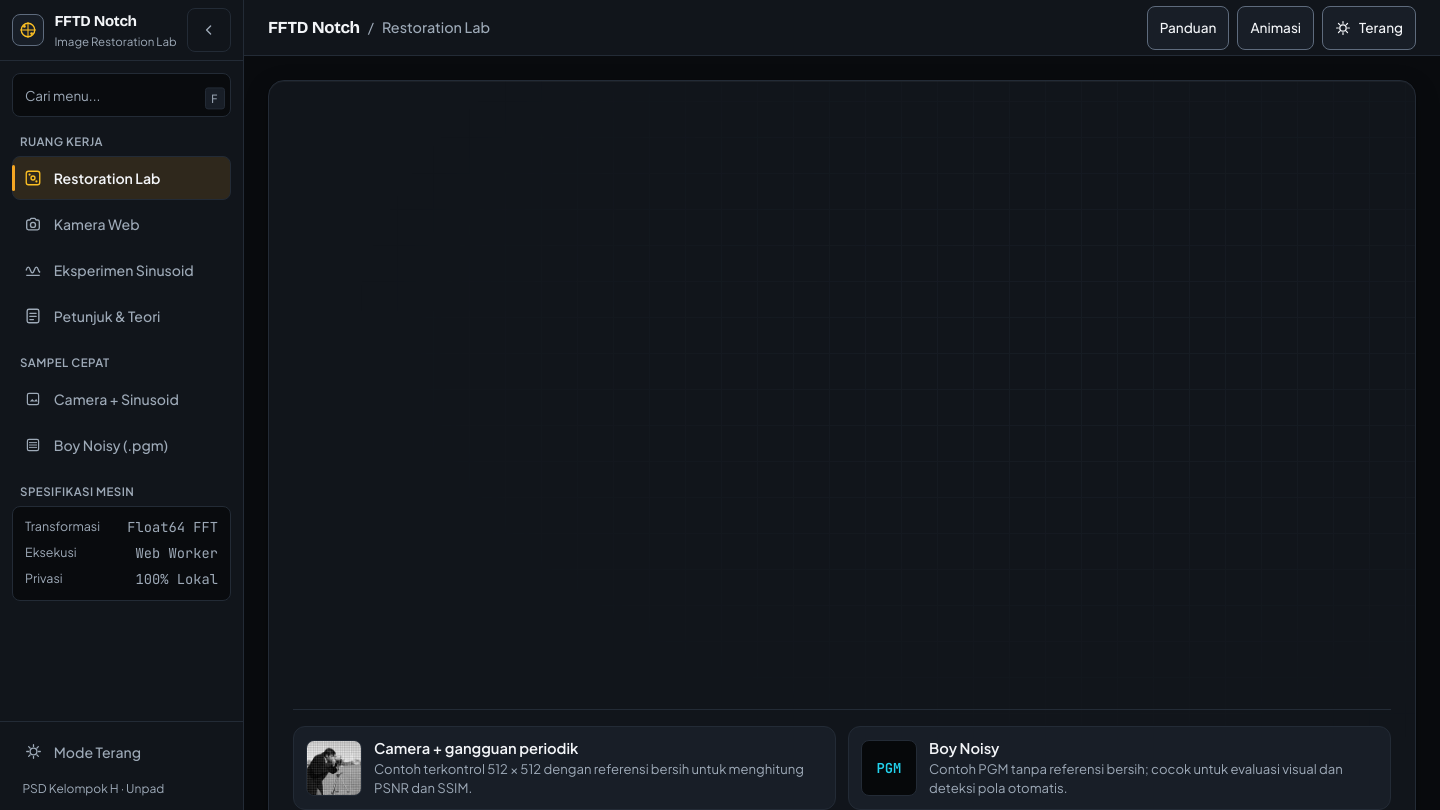
App navigation and theme controls › toggles theme between dark and light, updating documentElement.dataset.theme and aria-pressed
The width and height of the screenshot is (1440, 810).
Click the button with aria-label "Aktifkan mode terang" at (122, 752), box [12,730,231,774]
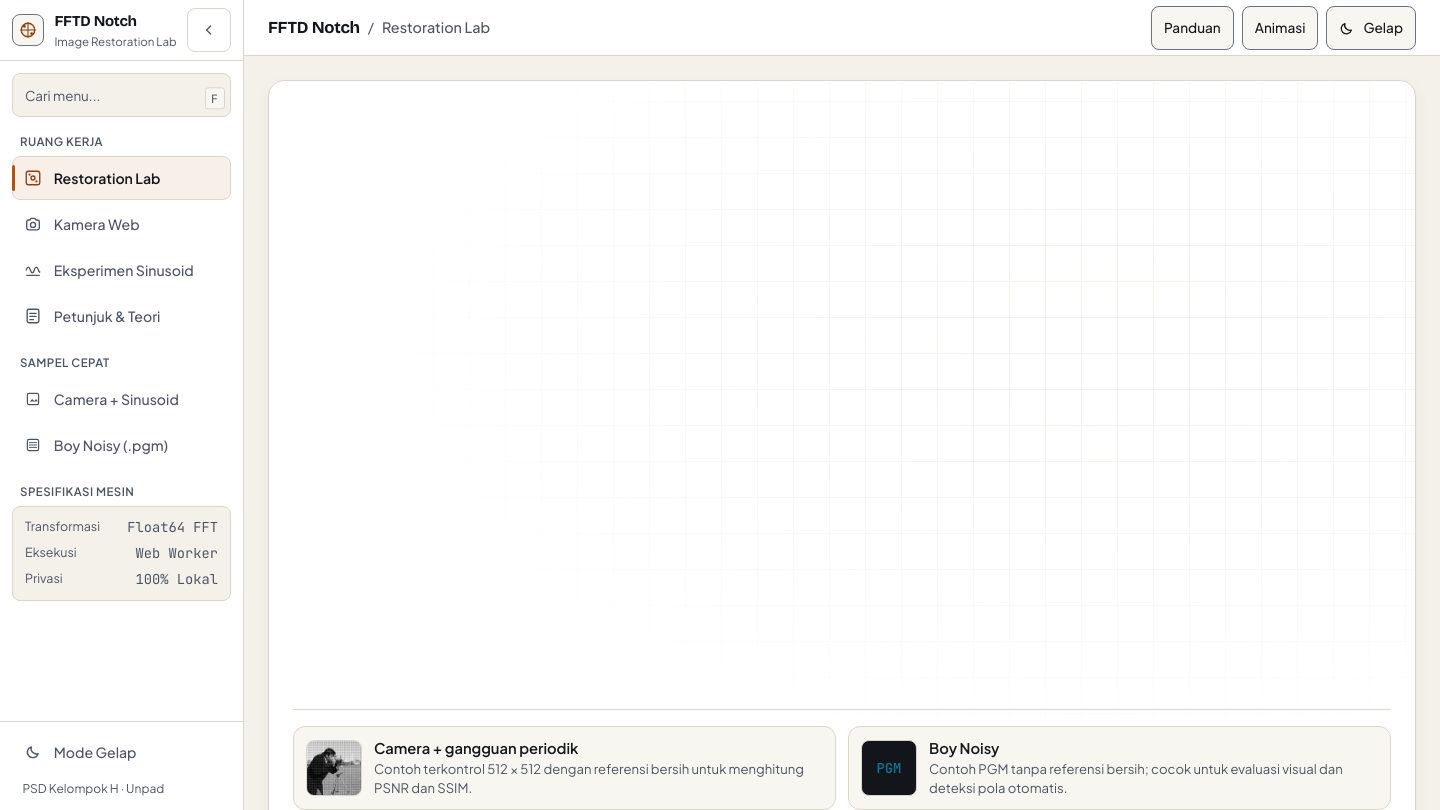
Now the button named "Aktifkan mode terang" is pressed
Now the button named "Aktifkan mode terang" has attribute aria-label="Aktifkan mode gelap"
Click the button named "Aktifkan mode terang" at (122, 752), box [12,730,231,774]
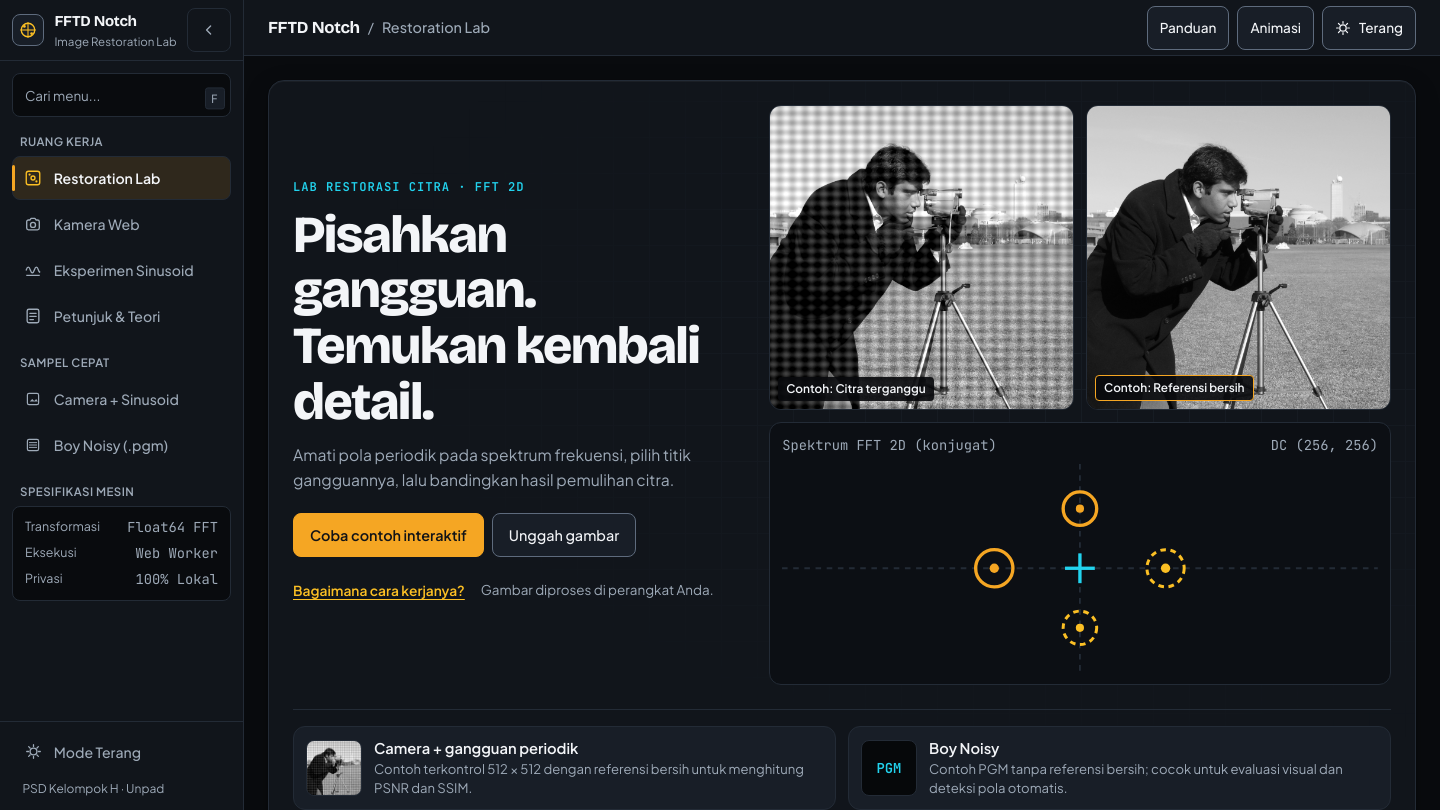
Now the button with aria-label "Aktifkan mode terang" is not pressed, box [12,730,231,774]
Now the button with aria-label "Aktifkan mode terang" has attribute aria-label="Aktifkan mode terang", box [12,730,231,774]
